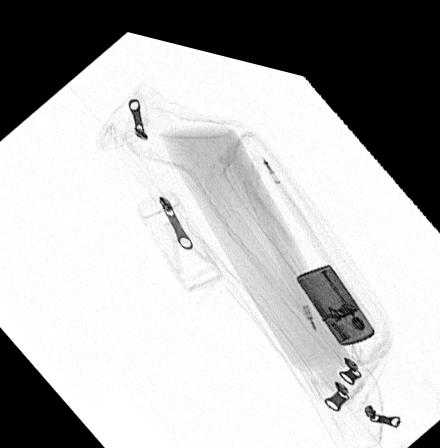Lighter: (295, 246, 375, 327)
